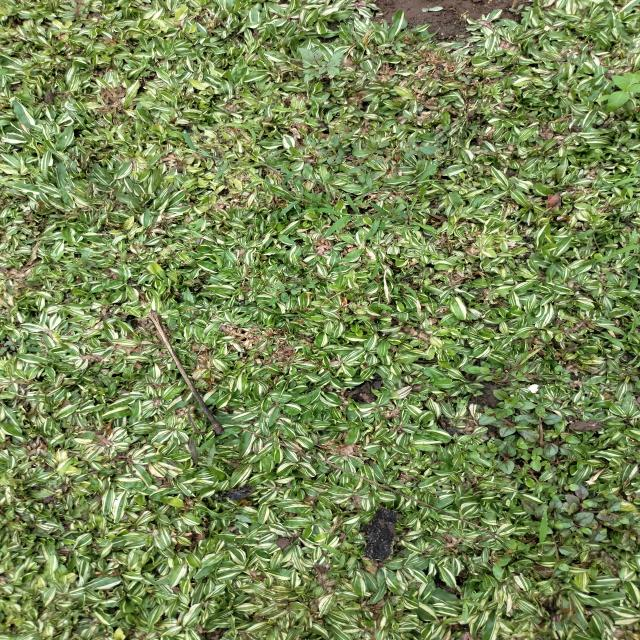akar wangi: (477, 81, 504, 99)
akar wangi palsu: (443, 582, 485, 625)
bayi: (126, 283, 137, 287), (468, 414, 473, 420), (584, 373, 590, 378), (511, 214, 516, 218), (408, 419, 412, 423), (451, 403, 455, 407)
daun tiga: (298, 46, 343, 83)
gingseng jawa: (63, 250, 92, 270), (60, 0, 86, 17)
rambat atas: (313, 190, 363, 240), (143, 130, 210, 165), (594, 304, 640, 351), (315, 537, 373, 572), (165, 424, 208, 465), (364, 200, 397, 239), (592, 244, 640, 270), (242, 147, 290, 172), (404, 160, 447, 187), (612, 162, 640, 201), (241, 164, 274, 197), (197, 430, 236, 456), (297, 189, 336, 213), (484, 552, 513, 584), (570, 212, 600, 242), (538, 508, 556, 552), (394, 196, 418, 220), (622, 226, 638, 262), (599, 176, 640, 189), (393, 282, 419, 302), (359, 262, 380, 286), (408, 219, 439, 234), (221, 121, 263, 132), (376, 297, 394, 312)
tunggang besar: (605, 68, 640, 114), (49, 250, 66, 262)
tunggang tengah: (264, 275, 321, 309), (314, 133, 360, 165), (397, 136, 447, 162), (367, 137, 391, 160), (346, 163, 370, 184), (430, 124, 453, 144), (553, 55, 584, 68), (308, 93, 332, 109), (461, 75, 482, 85), (485, 184, 502, 195)
ungu tunggang: (467, 389, 588, 482), (549, 483, 636, 573)
